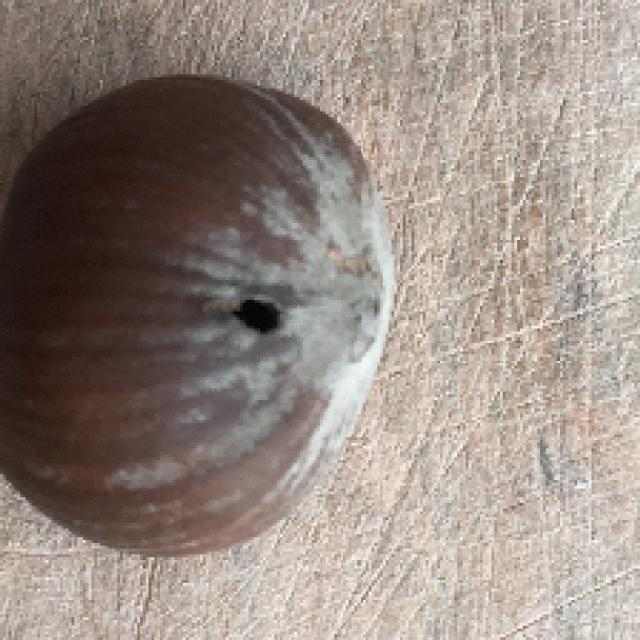damagedHazelnut: (0, 70, 389, 560)
